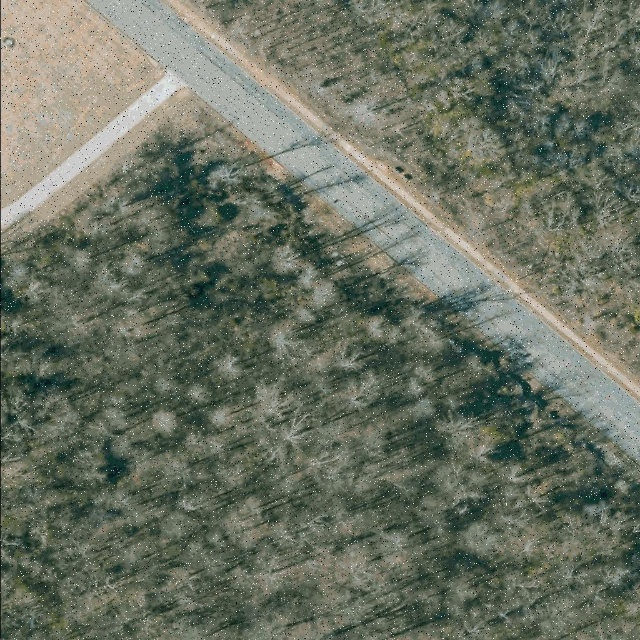vegetation: (0, 129, 640, 640), (192, 0, 640, 386)
